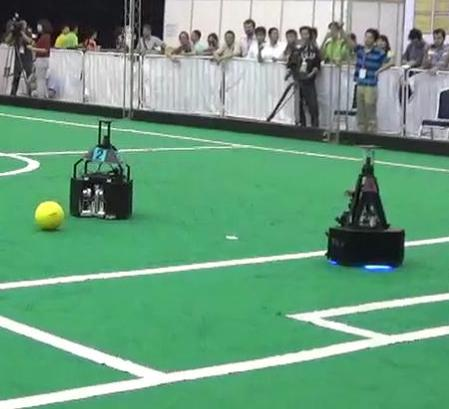robot: (325, 141, 408, 270), (64, 112, 140, 223)
